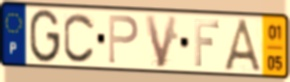A: (222, 17, 266, 74)
C: (62, 11, 97, 65)
F: (193, 19, 221, 69)
G: (28, 8, 62, 66)
P: (107, 13, 141, 66)
V: (143, 13, 180, 70)
